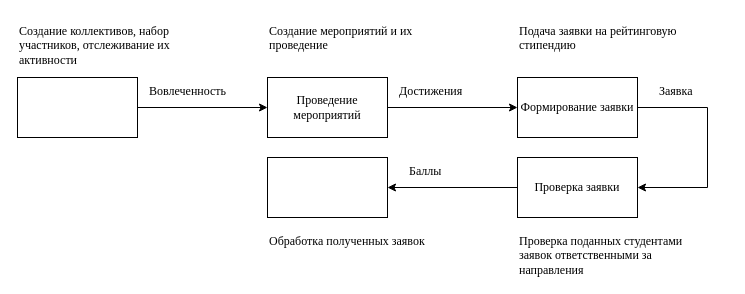
Image size: 745x294. Some labels were removed from this diagram. Each missing label, with the centre of its shape:
Начисление рейтинговой стипендии: (x=327, y=187)
Регистрация коллективов: (x=77, y=107)
